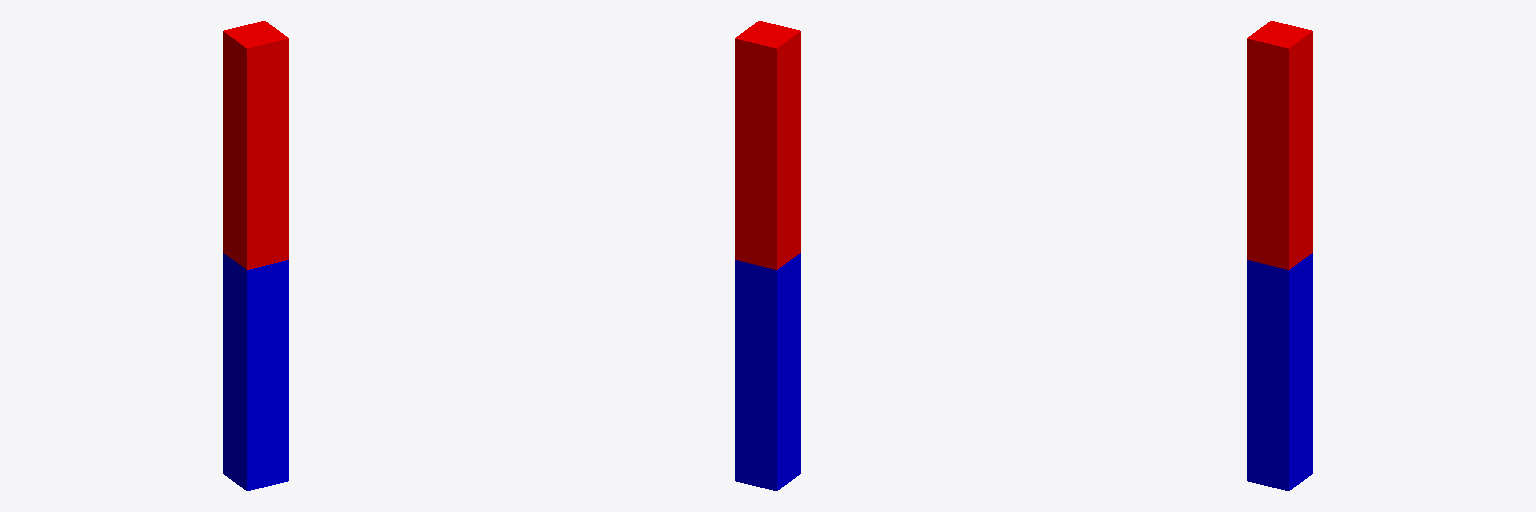
robot.urdf — simple_revolute_arm:
<?xml version="1.0" ?>
<robot name="simple_revolute_arm">

  <!-- Base Link -->
  <link name="base">
    <visual>
      <geometry>
        <box size="0.1 0.1 0.5"/>
      </geometry>
      <origin xyz="0 0 0.25" rpy="0 0 0"/>
      <material name="blue">
        <color rgba="0 0 1 1"/>
      </material>
    </visual>
    <collision>
      <geometry>
        <box size="0.1 0.1 0.5"/>
      </geometry>
      <origin xyz="0 0 0.25" rpy="0 0 0"/>
    </collision>
    <inertial>
      <mass value="1.0"/>
      <inertia ixx="0.002" ixy="0.0" ixz="0.0" iyy="0.002" iyz="0.0" izz="0.001"/>
      <origin xyz="0 0 0.25" rpy="0 0 0"/>
    </inertial>
  </link>

  <!-- Moving Link -->
  <link name="arm">
    <visual>
      <geometry>
        <box size="0.1 0.1 0.5"/>
      </geometry>
      <origin xyz="0 0 0.25" rpy="0 0 0"/>
      <material name="red">
        <color rgba="1 0 0 1"/>
      </material>
    </visual>
    <collision>
      <geometry>
        <box size="0.1 0.1 0.5"/>
      </geometry>
      <origin xyz="0 0 0.25" rpy="0 0 0"/>
    </collision>
    <inertial>
      <mass value="1.0"/>
      <inertia ixx="0.002" ixy="0.0" ixz="0.0" iyy="0.002" iyz="0.0" izz="0.001"/>
      <origin xyz="0 0 0.25" rpy="0 0 0"/>
    </inertial>
  </link>

  <!-- Revolute Joint -->
  <joint name="revolute_joint" type="revolute">
    <parent link="base"/>
    <child link="arm"/>
    <origin xyz="0 0 0.5" rpy="0 0 0"/>
    
    <axis xyz="0 1 0"/>
    <limit lower="-1.57" upper="1.57" effort="10.0" velocity="1.0"/>
  </joint>

</robot>

--- Facts derived from the render (not from the file) ---
Views: 3 orthographic renders of the robot side by side, from view 1: azimuth 30°, elevation 25°; view 2: azimuth 150°, elevation 25°; view 3: azimuth 330°, elevation 25°.
Model simple_revolute_arm with 2 links and 1 joints (1 revolute), rooted at base, posed every joint at zero.
Visible links, largest first — view 1: arm, base; view 2: arm, base; view 3: arm, base.
Link boxes in pixels (x1=…): arm: x1=223, y1=21, x2=288, y2=269; base: x1=223, y1=253, x2=288, y2=490; arm: x1=735, y1=21, x2=800, y2=269; base: x1=735, y1=253, x2=800, y2=490; arm: x1=1247, y1=21, x2=1312, y2=269; base: x1=1247, y1=253, x2=1312, y2=490.
Bounding box of the posed robot: 0.1 × 0.1 × 1 m (x, y, z).
Geometry: primitives only (box / cylinder / sphere), no mesh files.
